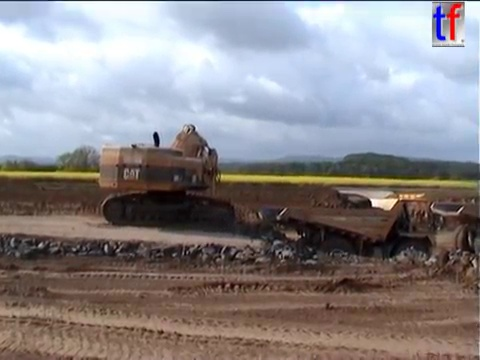excavator: (95, 122, 237, 232)
truck: (254, 190, 444, 276), (428, 199, 480, 265)
